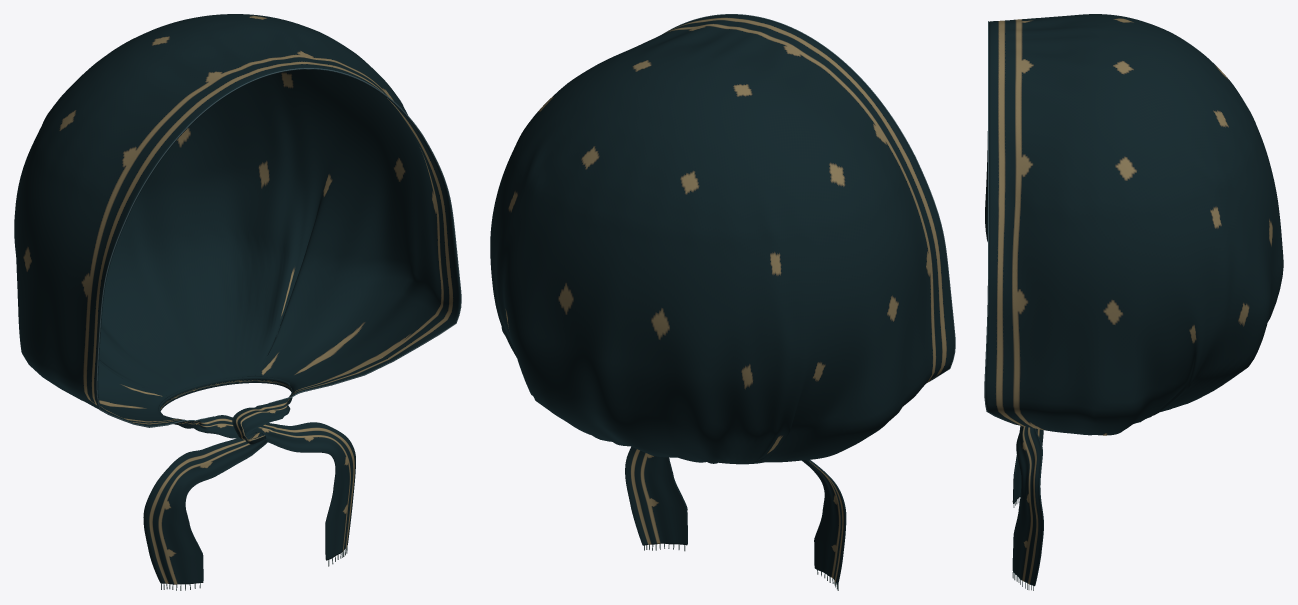
The model's file is Masculine-jersey-pashmina244-headgear.glb.
The picture shows the model from 3 angles, left to right: view 1: azimuth 30°, elevation 25°; view 2: azimuth 150°, elevation 25°; view 3: azimuth 270°, elevation 25°; orthographic projection. The views are drawn at different scales.
Parts seen in each view (by area): view 1: 226 headgear / Headwear / continuous woven pashmina239, 226 headgear / Headwear / face edge239; view 2: 226 headgear / Headwear / continuous woven pashmina239, 226 headgear / Headwear / face edge239; view 3: 226 headgear / Headwear / continuous woven pashmina239, 226 headgear / Headwear / face edge239.
Part boxes in pixels (box(x1,y1,x2,y2)): 226 headgear / Headwear / continuous woven pashmina239: box(14, 14, 460, 584); 226 headgear / Headwear / face edge239: box(96, 68, 461, 427); 226 headgear / Headwear / continuous woven pashmina239: box(490, 14, 954, 584); 226 headgear / Headwear / face edge239: box(663, 14, 955, 382); 226 headgear / Headwear / continuous woven pashmina239: box(985, 14, 1283, 586); 226 headgear / Headwear / face edge239: box(984, 21, 1018, 425).
Bounding box in the file's own units: 1.03 × 1.35 × 0.7127.
3 materials, 1 textured.
